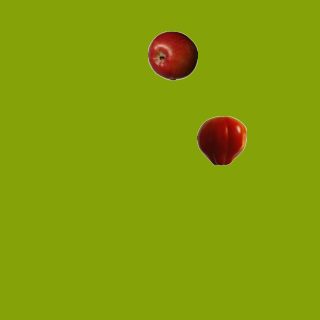Apple Braeburn: (147, 30, 197, 80)
Tomato 1: (196, 115, 246, 165)
